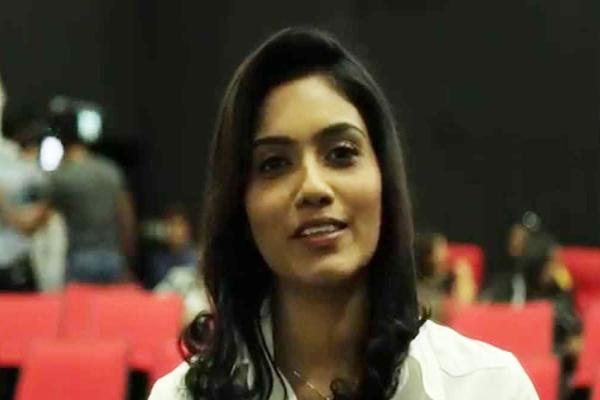Indian: (244, 86, 379, 271)
